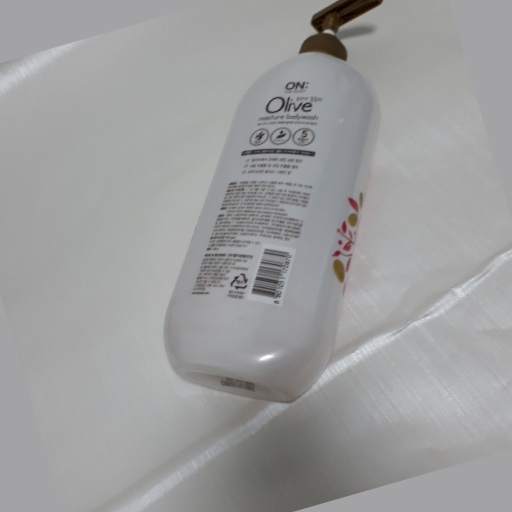Plastic_3: (160, 3, 387, 399)
